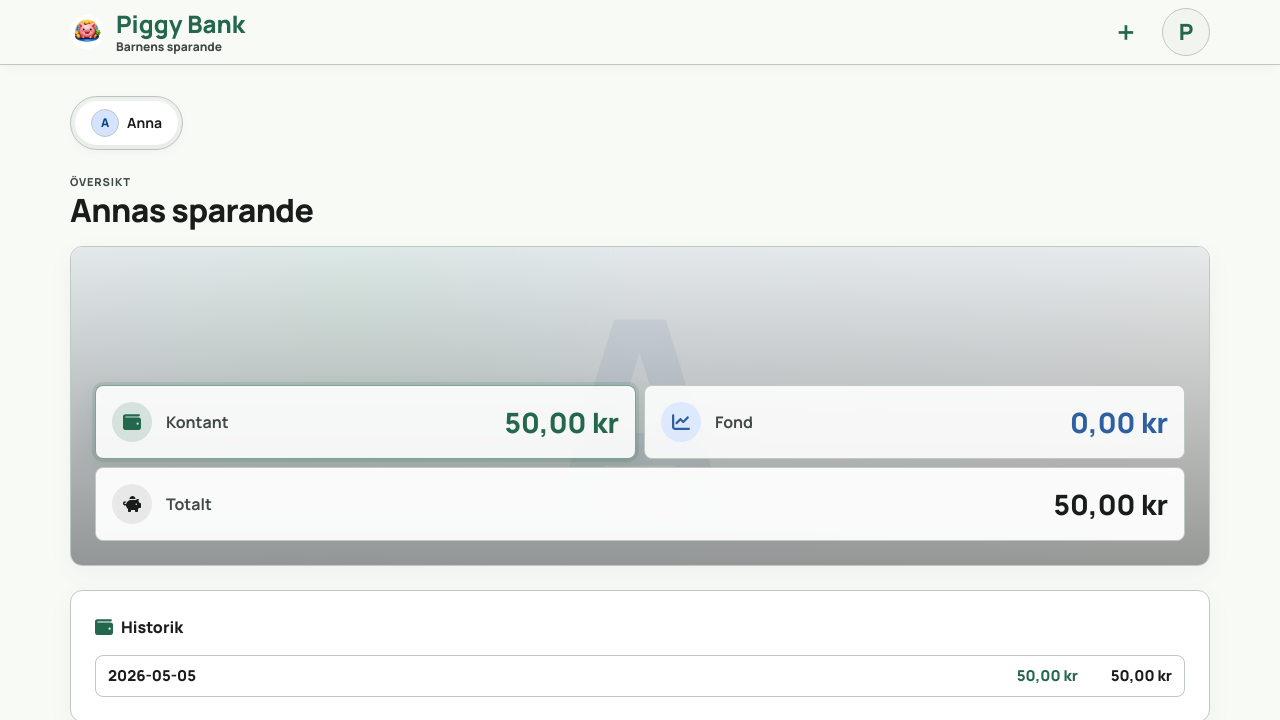
Test: App › edits an existing transaction from the unfolded transaction comment
The width and height of the screenshot is (1280, 720).
Click the button with aria-label "Visa kommentar för transaktion 2026-05-05" at (152, 676), box [96, 656, 1184, 696]
(page scrolled)
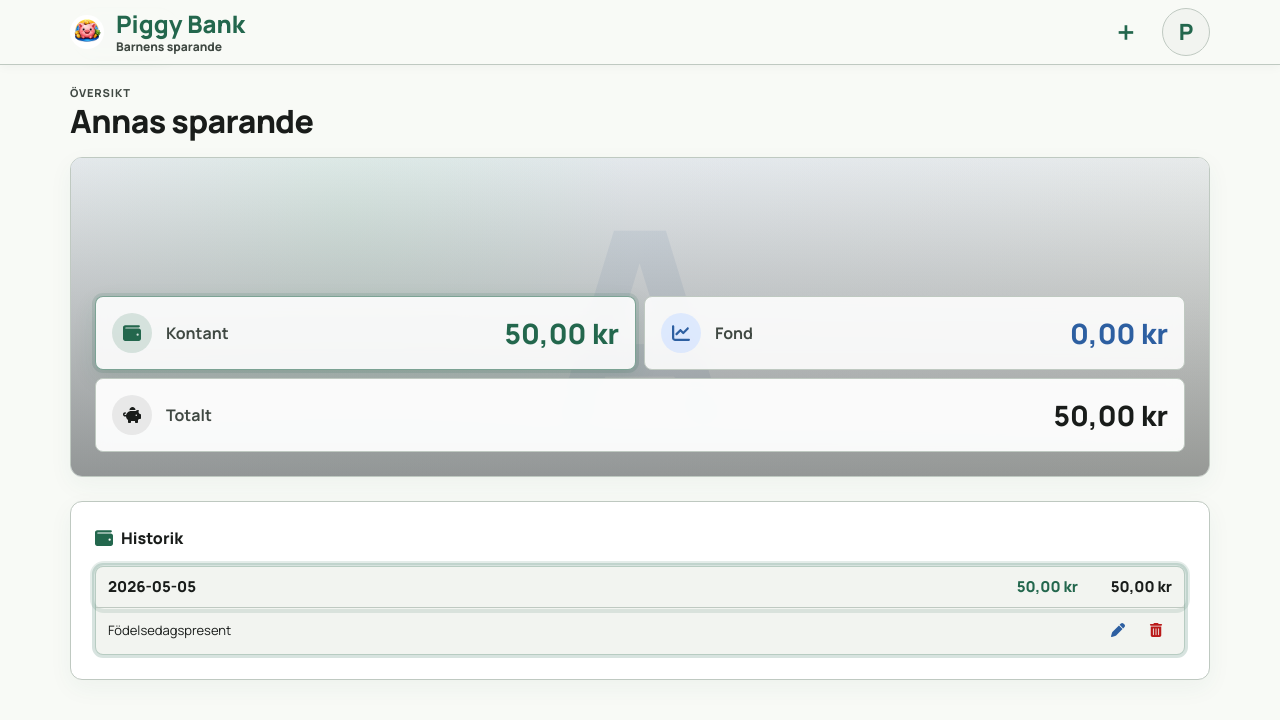
Click the button named "Redigera transaktion" at (1118, 630), box [1102, 614, 1134, 646]
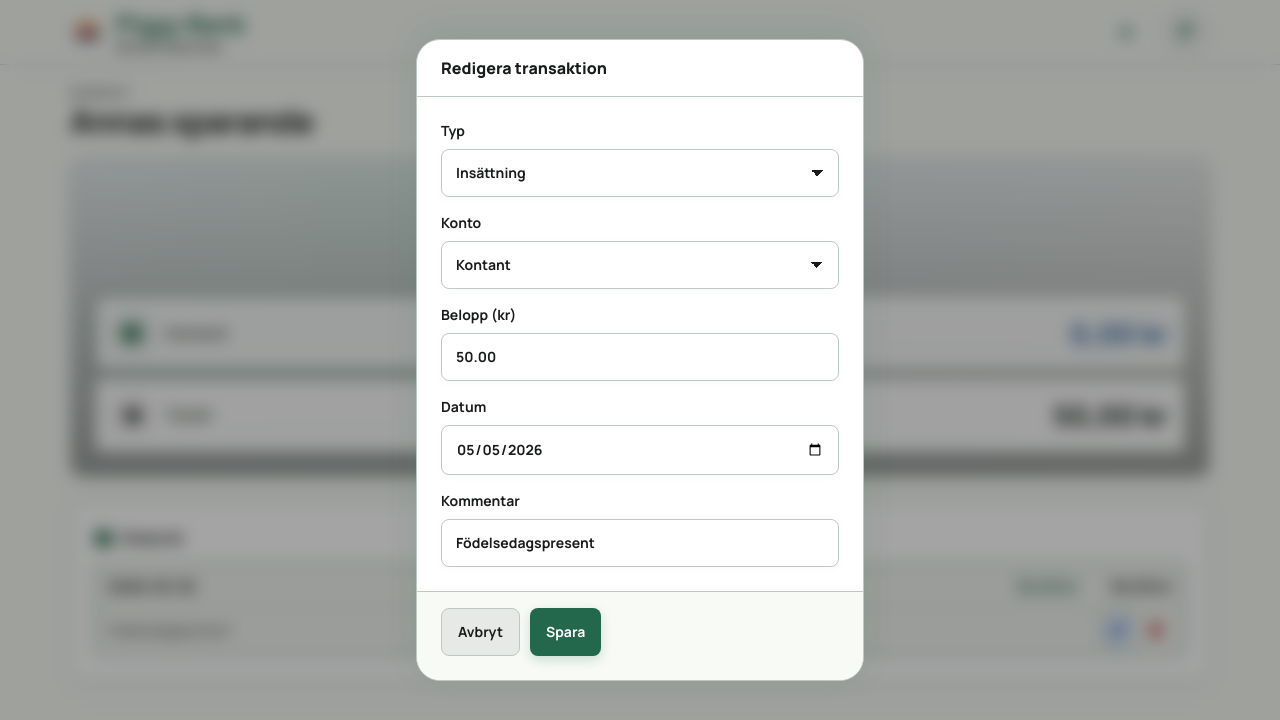
Now the heading "Redigera transaktion" is shown, box [441, 56, 607, 80]
Select "Uttag" in the dropdown labelled "Typ" at (640, 173), box [441, 149, 839, 197]
Clear the field labelled "Belopp (kr)" at (640, 357), box [441, 333, 839, 381]
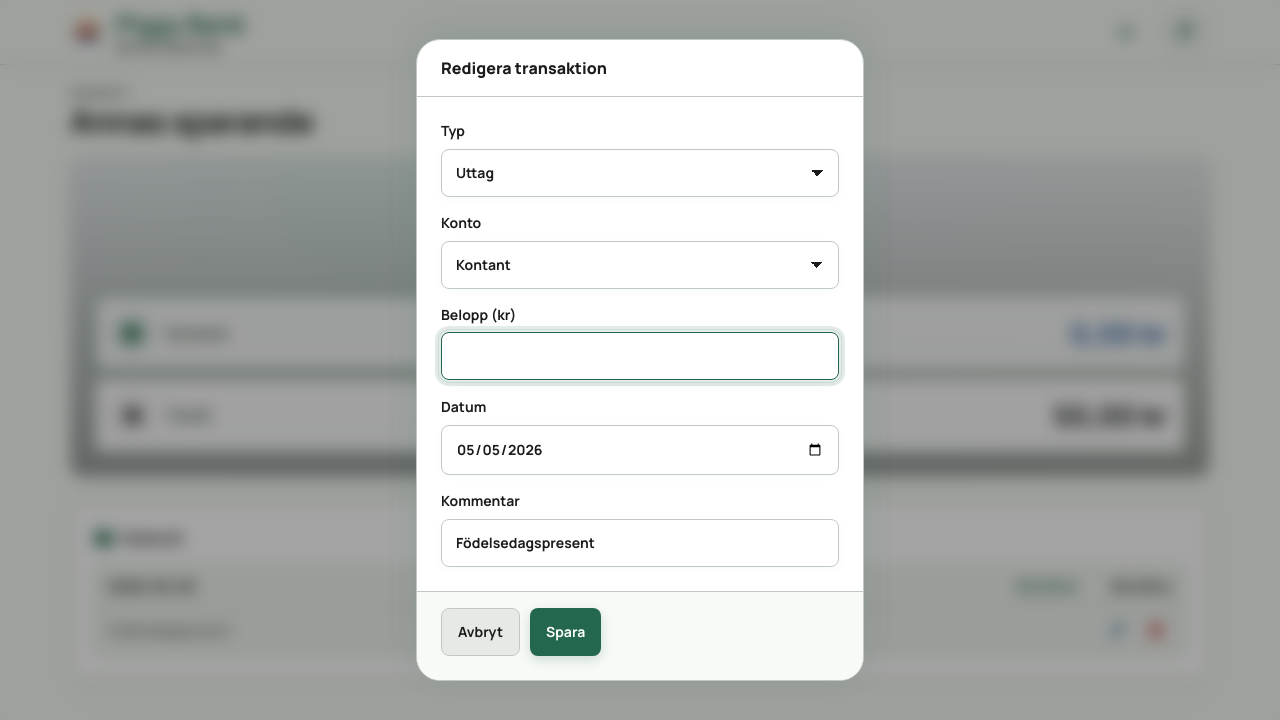
Type "75.50" into the field labelled "Belopp (kr)" at (640, 356), box [441, 332, 839, 380]
Clear the field labelled "Kommentar" at (640, 543), box [441, 519, 839, 567]
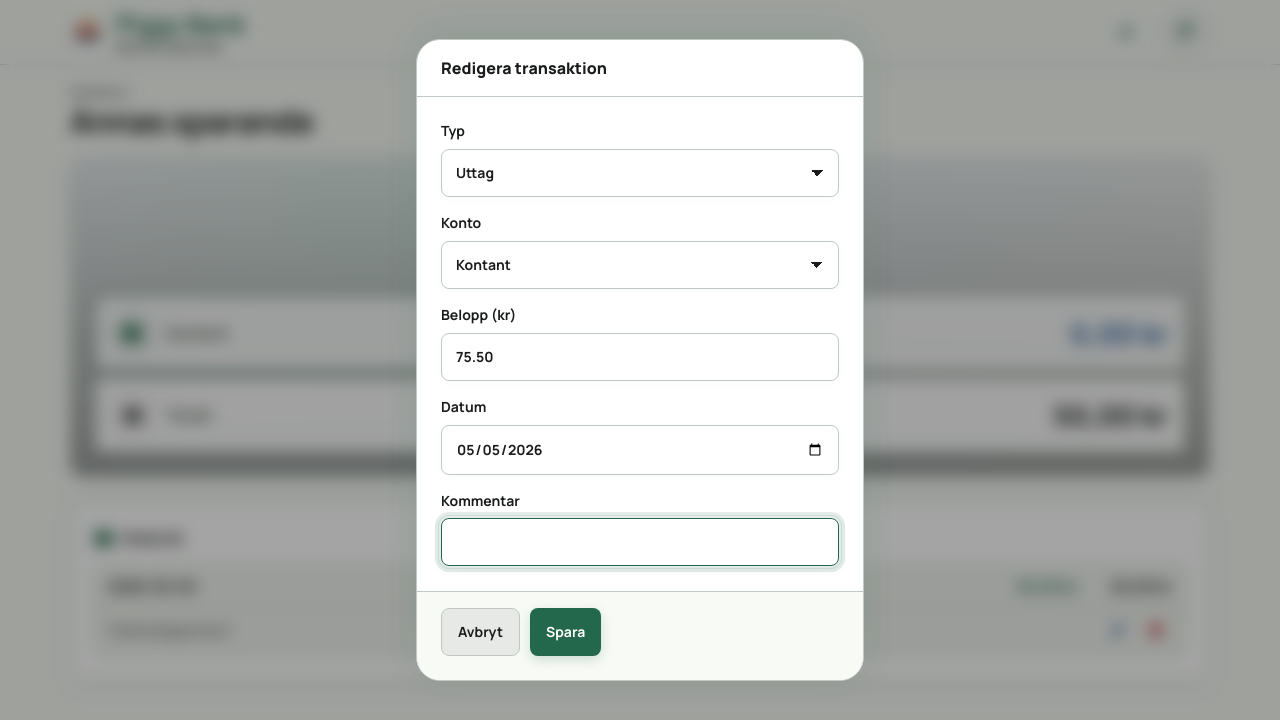
Type "Korrigerad" into the field labelled "Kommentar" at (640, 542), box [441, 518, 839, 566]
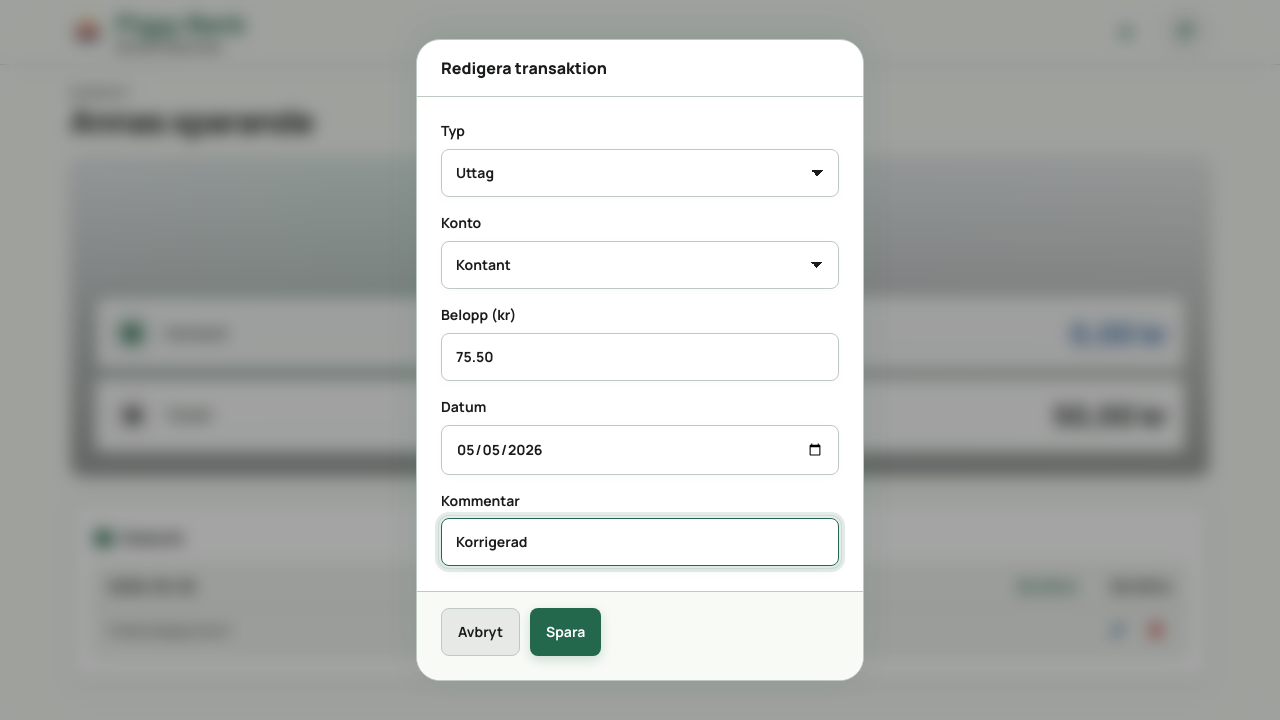
Click the button "Spara" at (566, 632), box [530, 608, 601, 656]
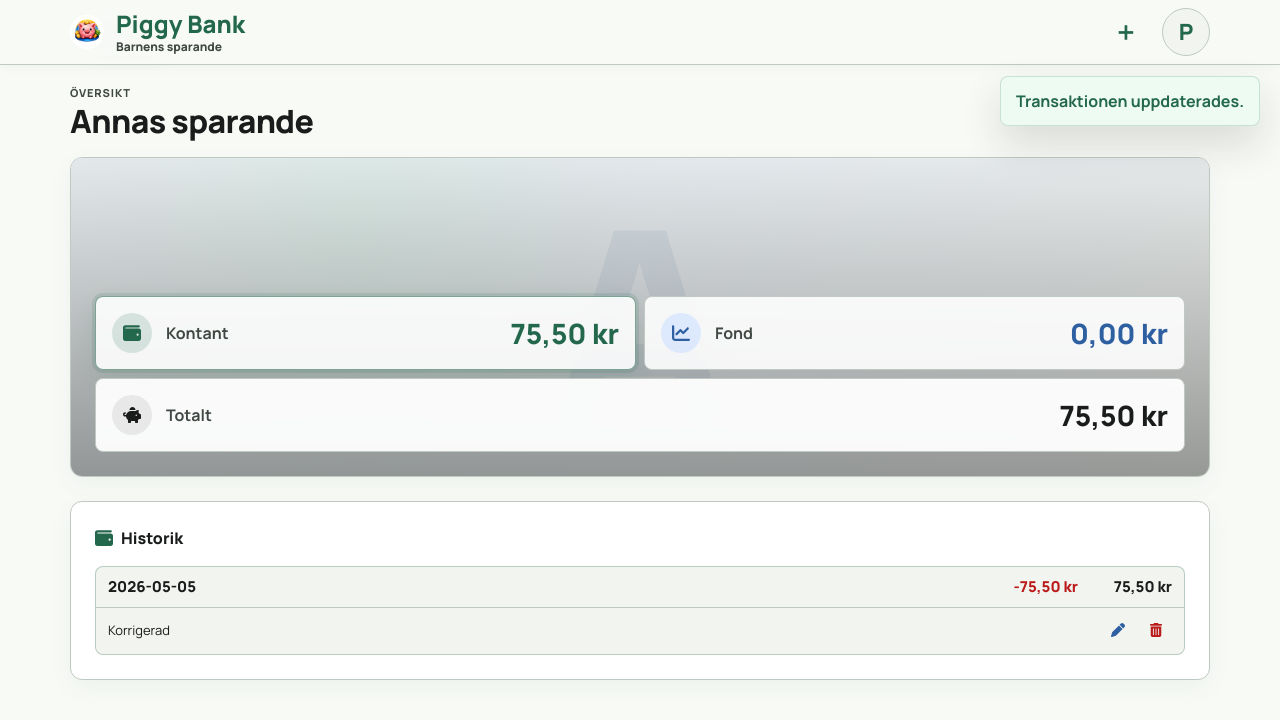
Now the text "Transaktionen uppdaterades." is shown, box [1000, 76, 1260, 126]
